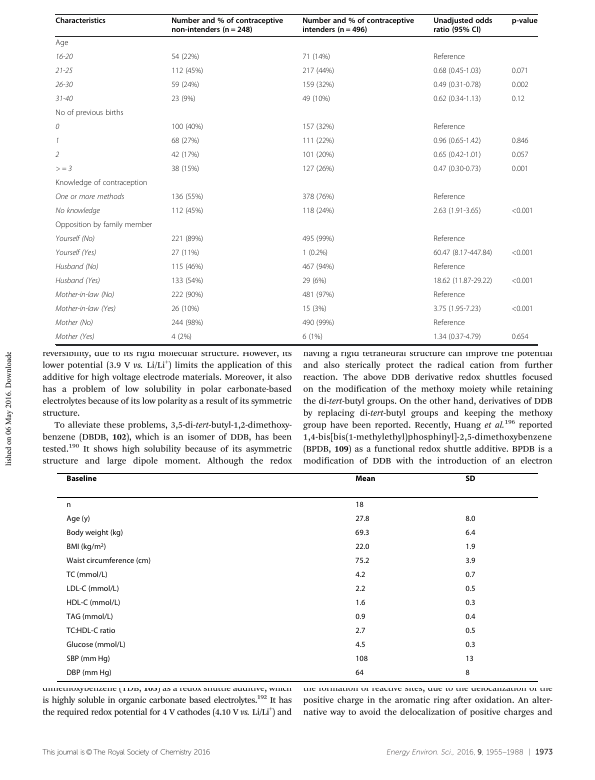borderless: (54, 13, 537, 344), (56, 471, 538, 681)
cell: (170, 17, 284, 35), (301, 17, 415, 35), (432, 17, 493, 35), (55, 221, 153, 231), (55, 179, 148, 189), (66, 556, 152, 566), (55, 109, 124, 119), (55, 193, 125, 202), (432, 249, 493, 259), (432, 277, 493, 287), (66, 640, 127, 650), (66, 528, 124, 538), (55, 305, 117, 314), (66, 598, 121, 608), (55, 291, 115, 300), (66, 584, 120, 594), (432, 67, 482, 77), (432, 81, 482, 91), (432, 95, 482, 105), (432, 137, 482, 147), (432, 151, 482, 161), (432, 165, 482, 175), (432, 207, 482, 217), (432, 305, 482, 315), (432, 333, 482, 343), (66, 626, 116, 636), (66, 612, 114, 622), (55, 17, 107, 26), (55, 207, 101, 217), (66, 668, 112, 678), (66, 654, 111, 664), (66, 570, 108, 580), (55, 277, 101, 286), (66, 542, 107, 552), (55, 263, 99, 272), (55, 249, 97, 258), (55, 235, 96, 244), (55, 333, 95, 342), (55, 319, 94, 328), (432, 53, 466, 63), (170, 67, 204, 77), (301, 67, 335, 77), (301, 81, 335, 91), (170, 123, 204, 133), (301, 123, 335, 133), (432, 123, 466, 133), (301, 137, 335, 147), (301, 151, 335, 161), (301, 165, 335, 175), (170, 193, 204, 203), (301, 193, 335, 203), (432, 193, 466, 203), (170, 207, 204, 217), (301, 207, 335, 217), (170, 235, 204, 245), (301, 235, 335, 245), (432, 235, 466, 245), (170, 263, 204, 273), (301, 263, 335, 273), (432, 263, 466, 273), (170, 277, 204, 287), (170, 291, 204, 301), (301, 291, 335, 301), (432, 291, 466, 301), (170, 319, 204, 329), (301, 319, 335, 329), (432, 319, 466, 329), (170, 53, 200, 63), (301, 53, 331, 63), (170, 81, 200, 91), (301, 95, 331, 105), (170, 137, 200, 147), (170, 151, 200, 161), (170, 165, 200, 175), (170, 249, 200, 259), (170, 305, 200, 315), (301, 249, 329, 259), (170, 95, 196, 105), (301, 277, 327, 287), (301, 305, 327, 315), (66, 474, 98, 482), (66, 514, 91, 524), (511, 17, 538, 26), (511, 207, 534, 217), (511, 249, 534, 259), (511, 277, 534, 287), (511, 305, 534, 315), (170, 333, 192, 343), (301, 333, 323, 343), (511, 67, 529, 77), (511, 81, 529, 91), (511, 137, 529, 147), (511, 151, 529, 161), (511, 165, 529, 175), (511, 333, 529, 343), (354, 474, 376, 482), (55, 53, 73, 62), (55, 67, 73, 76), (55, 81, 73, 90), (55, 95, 73, 104), (55, 165, 73, 174), (354, 514, 370, 524), (354, 528, 370, 538), (354, 542, 370, 552), (354, 556, 370, 566), (511, 95, 526, 105), (354, 654, 369, 664), (55, 39, 69, 49), (464, 514, 476, 524), (464, 528, 476, 538), (464, 542, 476, 552), (464, 556, 476, 566), (354, 570, 366, 580), (464, 570, 476, 580), (354, 584, 366, 594), (464, 584, 476, 594), (354, 598, 366, 608), (464, 598, 476, 608), (354, 612, 366, 622), (464, 612, 476, 622), (354, 626, 366, 636), (464, 626, 476, 636), (354, 640, 366, 650), (354, 500, 365, 510), (465, 640, 476, 650), (464, 654, 475, 664), (354, 668, 365, 678), (464, 474, 476, 482), (464, 668, 471, 678), (66, 500, 72, 510), (55, 123, 60, 132), (55, 137, 60, 146), (55, 151, 60, 160)
